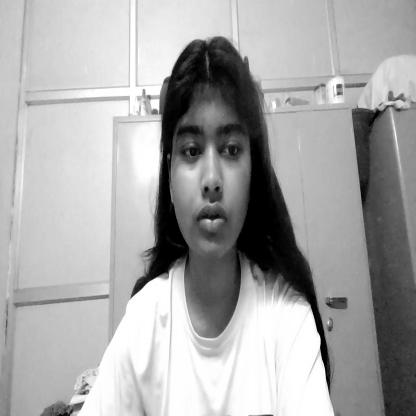Normal: (166, 40, 264, 270)
